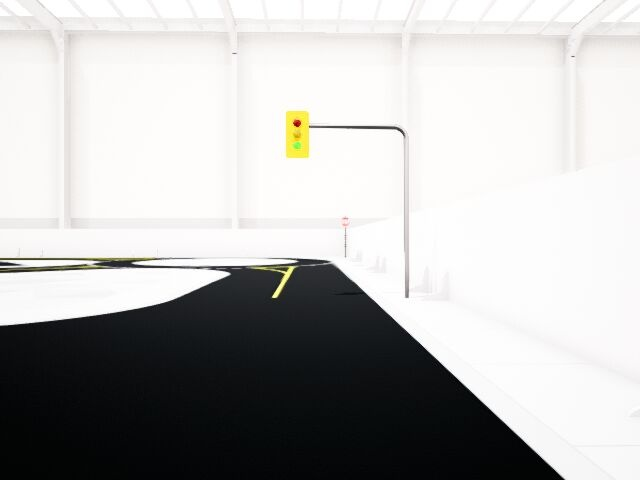green: (287, 111, 308, 157)
stopsign: (341, 214, 351, 228)
